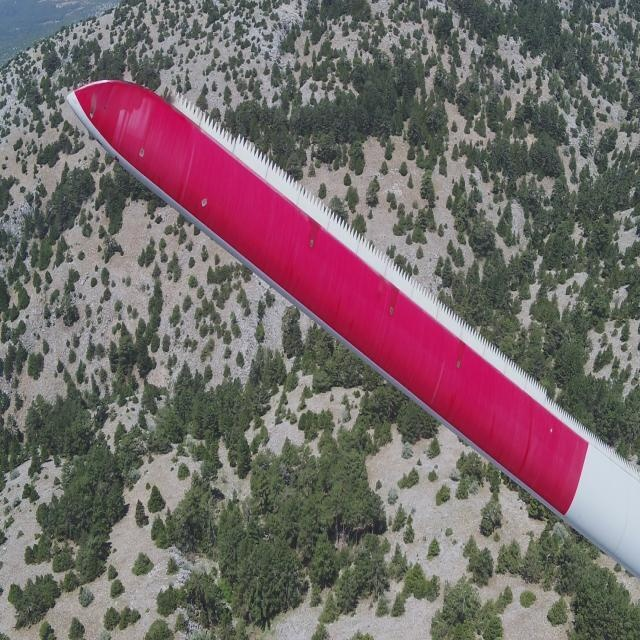Burn Mark: (87, 94, 99, 122), (154, 92, 177, 104)
Coating_defects: (453, 350, 467, 373), (195, 194, 213, 211), (306, 235, 318, 254), (386, 303, 397, 322), (137, 144, 149, 161), (548, 427, 553, 437)
